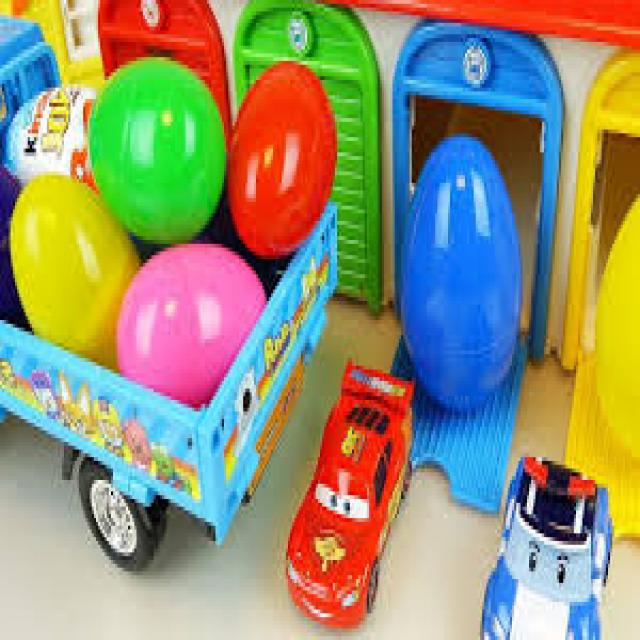Car: (281, 359, 420, 635), (458, 472, 616, 640)
